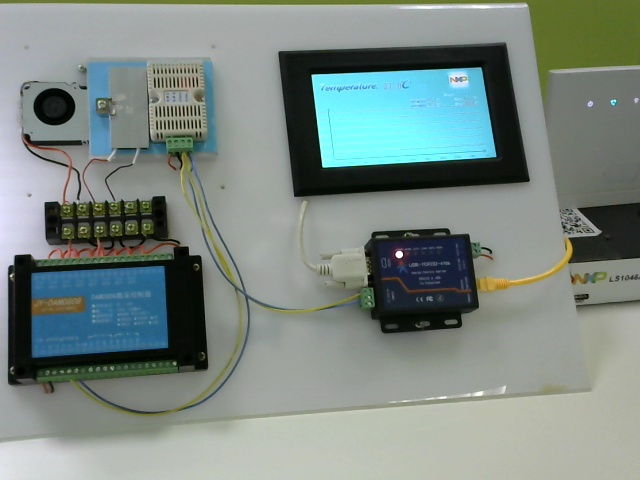fan: (10, 77, 92, 163)
heater: (108, 61, 152, 151)
modbus bridge: (370, 220, 493, 351)
relay: (6, 249, 220, 395)
termperature: (149, 63, 213, 149)
